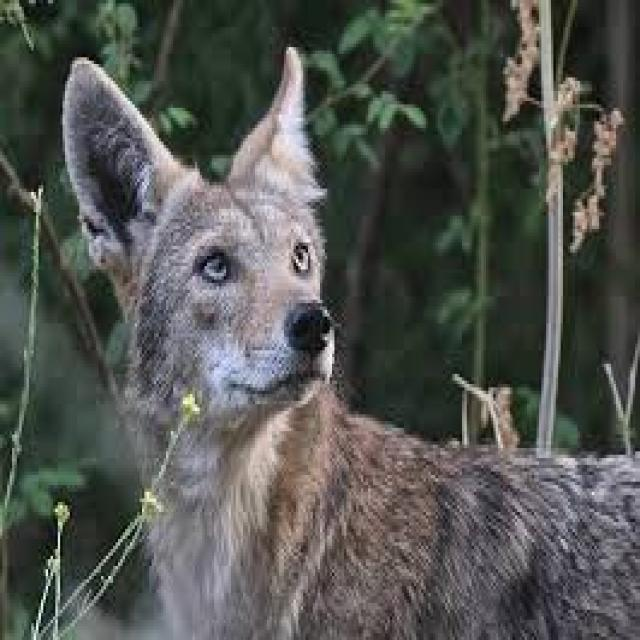Coyote: (60, 32, 640, 640)
